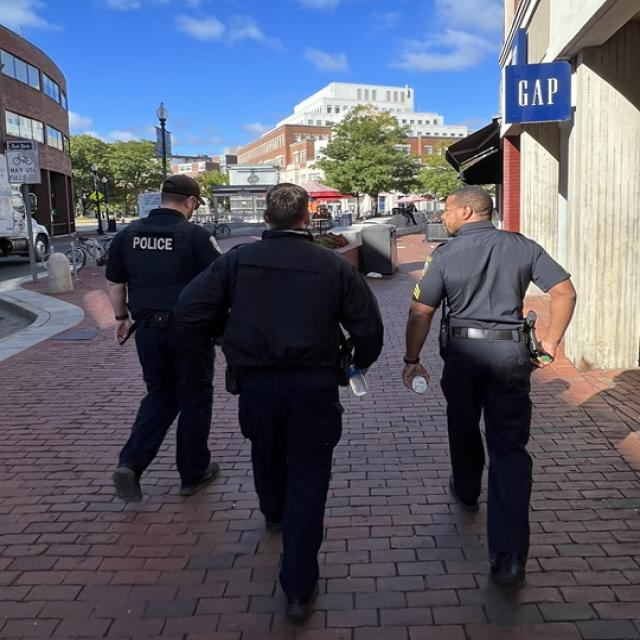police: (193, 162, 397, 630), (407, 179, 588, 594), (80, 149, 226, 531)
